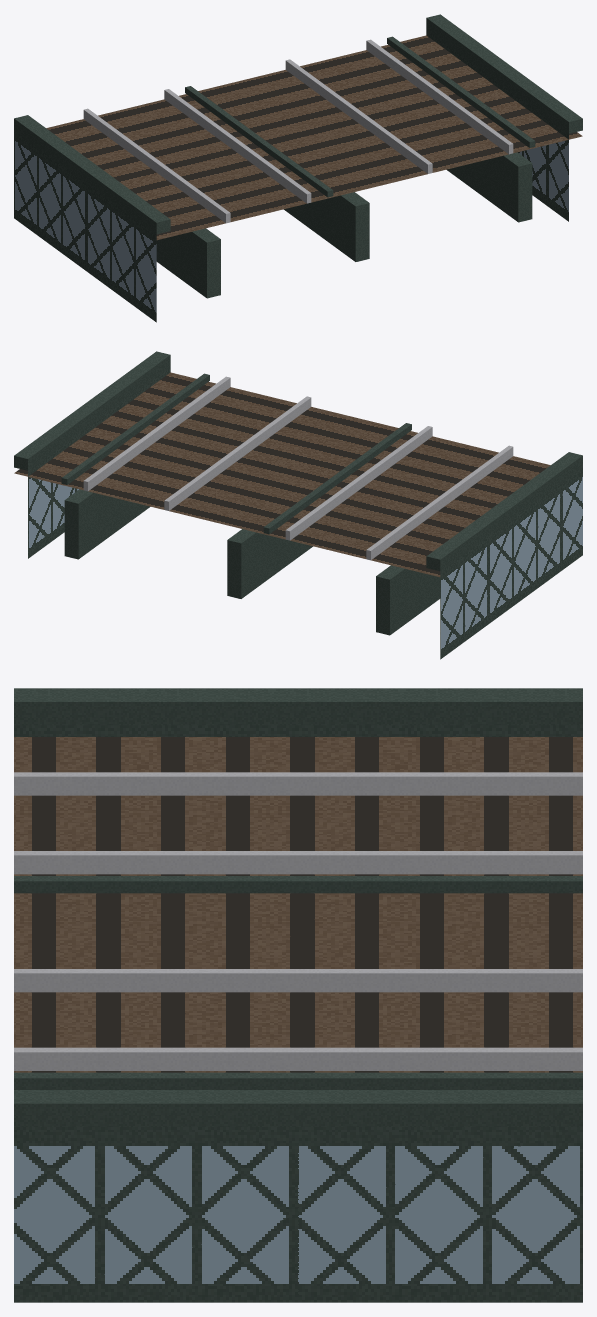
The model's file is l_deck_4.glb.
3 renders of one model, top to bottom at view 1: azimuth 30°, elevation 25°; view 2: azimuth 150°, elevation 25°; view 3: azimuth 270°, elevation 25°, orthographic. The views are drawn at different scales.
Visible parts, largest first — view 1: l_deck_4; view 2: l_deck_4; view 3: l_deck_4.
Part boxes in pixels (<box>): l_deck_4: <box>14,14,582,322</box>; l_deck_4: <box>14,351,582,659</box>; l_deck_4: <box>14,688,582,1302</box>.
Bounding box in the file's own units: 7.6 × 1.7 × 4.4.
4 materials, 4 textured.
